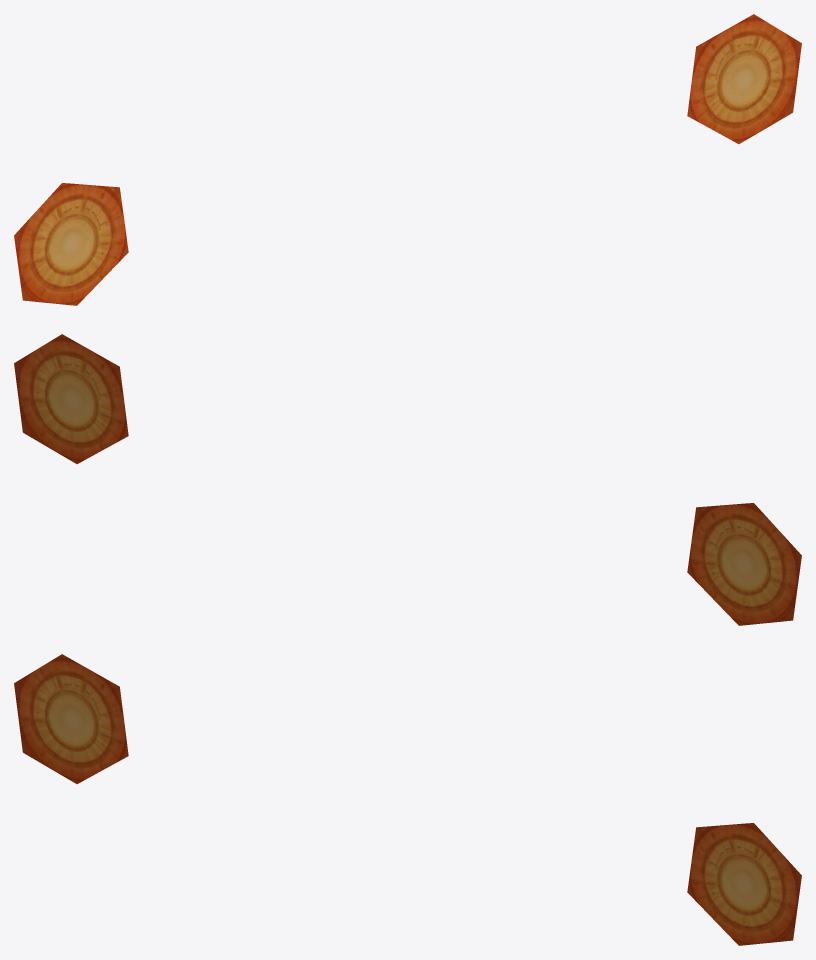
Rendered from hutt_fighter_light_booster_s01_on_l1.fbx.
The picture shows the model from 3 angles, top to bottom: view 1: azimuth 30°, elevation 25°; view 2: azimuth 150°, elevation 25°; view 3: azimuth 330°, elevation 25°; orthographic projection.
Parts seen in each view (by area): view 1: mesh_node; view 2: mesh_node; view 3: mesh_node.
Part boxes in pixels (left/top/right/bottom): mesh_node: left=14, top=14, right=801, bottom=305; mesh_node: left=14, top=334, right=801, bottom=625; mesh_node: left=14, top=654, right=801, bottom=945.
Bounding box in the file's own units: 3.54 × 0.5434 × 0.
1 material, 1 textured.
